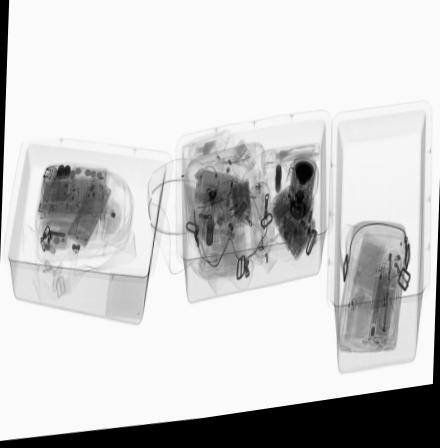Lighter: (342, 306, 356, 350)
